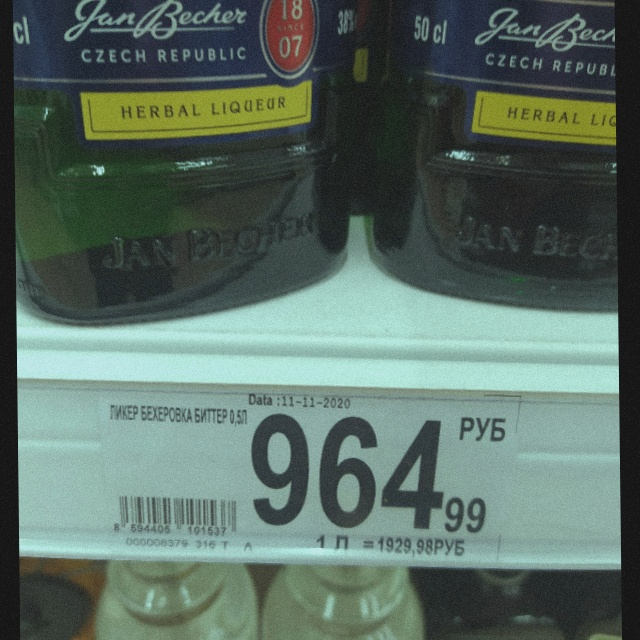barcode: (110, 495, 239, 538)
name: (107, 401, 249, 428)
price: (249, 412, 493, 537)
price_tag: (98, 389, 520, 559)
